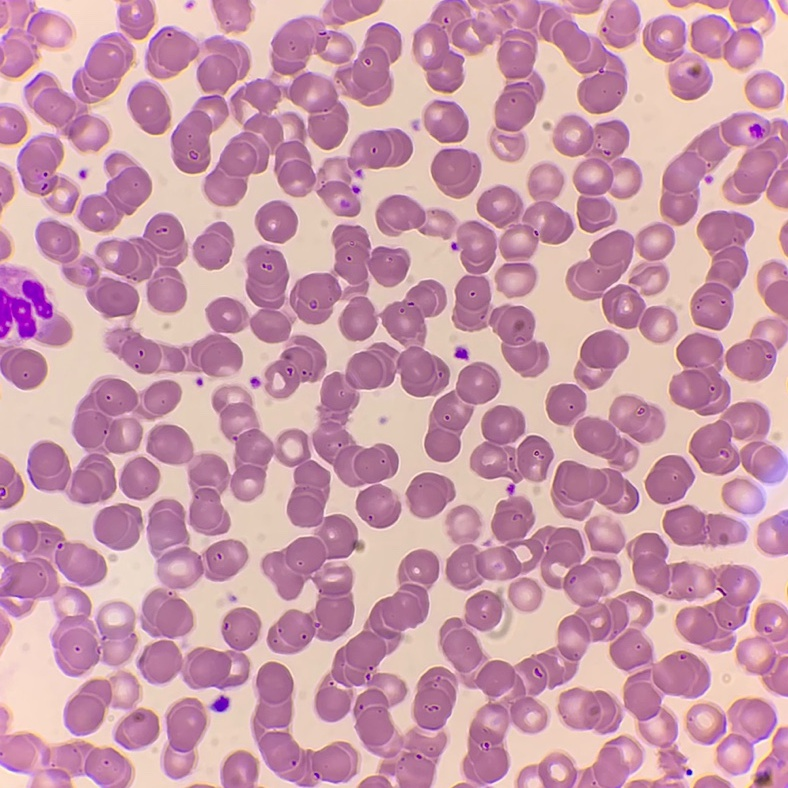RBC: (446, 497, 628, 694), (205, 17, 352, 205), (332, 550, 445, 787), (262, 430, 361, 653), (313, 343, 449, 486), (487, 0, 626, 131), (670, 334, 782, 479), (628, 533, 758, 650), (660, 112, 787, 224), (69, 378, 180, 503), (252, 662, 357, 786), (25, 35, 133, 149), (567, 230, 676, 342), (610, 629, 709, 747), (290, 225, 409, 323), (463, 661, 546, 784), (555, 115, 641, 231), (0, 522, 105, 615), (137, 608, 259, 688), (96, 213, 187, 312), (413, 0, 495, 92), (425, 362, 499, 461), (691, 211, 752, 329), (726, 262, 787, 380), (499, 164, 572, 260), (0, 734, 131, 787), (213, 387, 273, 500), (108, 328, 242, 375), (470, 406, 552, 480), (53, 602, 135, 675), (79, 153, 151, 231), (691, 0, 773, 68), (337, 23, 401, 105), (148, 499, 203, 588), (737, 603, 787, 695), (64, 673, 138, 734), (62, 258, 138, 317), (552, 461, 638, 513), (171, 95, 227, 172), (246, 246, 290, 342), (490, 306, 547, 376), (382, 280, 445, 343), (0, 0, 49, 76), (266, 335, 325, 397), (164, 698, 206, 778), (663, 505, 745, 545), (189, 454, 229, 535), (574, 418, 637, 468), (579, 737, 641, 787), (23, 282, 71, 345), (575, 331, 627, 388), (197, 36, 249, 92), (18, 136, 66, 194), (145, 27, 199, 77), (559, 689, 621, 732), (414, 667, 455, 729), (348, 129, 412, 168), (610, 396, 664, 442), (141, 589, 192, 637), (431, 149, 480, 197), (440, 618, 483, 672), (319, 158, 359, 216), (646, 455, 693, 503), (128, 81, 170, 133), (94, 504, 142, 549), (407, 473, 454, 517), (457, 221, 496, 273), (28, 442, 70, 490), (453, 276, 490, 330), (376, 195, 425, 235), (643, 15, 685, 61), (0, 346, 46, 388), (669, 54, 711, 99), (193, 222, 233, 269), (424, 100, 468, 142), (356, 485, 400, 527), (477, 186, 522, 226), (36, 220, 78, 262), (114, 709, 158, 749), (730, 699, 775, 738), (147, 425, 192, 463), (602, 0, 639, 46), (255, 201, 296, 242), (0, 290, 35, 338), (120, 457, 159, 499), (206, 540, 246, 580), (339, 297, 376, 340), (546, 384, 585, 424), (465, 591, 503, 630), (687, 704, 725, 743), (754, 743, 787, 787), (118, 0, 154, 38), (636, 223, 674, 259), (315, 682, 350, 721), (207, 298, 246, 332), (718, 734, 752, 773), (326, 0, 381, 24), (496, 263, 536, 296), (746, 71, 782, 107), (221, 751, 257, 787), (0, 458, 23, 509), (758, 514, 787, 554), (212, 0, 250, 30), (538, 757, 576, 787), (447, 506, 479, 541), (509, 579, 541, 610), (0, 106, 26, 143), (491, 134, 524, 160), (626, 592, 652, 622), (661, 750, 682, 778), (0, 266, 23, 289), (0, 167, 13, 204), (633, 265, 654, 284), (696, 776, 730, 787), (574, 0, 600, 13), (360, 776, 390, 787), (75, 592, 90, 612), (213, 696, 229, 710), (564, 508, 584, 519), (0, 235, 9, 258), (703, 0, 728, 8), (0, 619, 9, 640), (0, 709, 7, 733), (0, 1, 7, 24), (781, 226, 787, 248), (722, 486, 731, 500), (630, 780, 646, 787), (605, 544, 618, 552), (671, 0, 687, 6), (778, 728, 787, 738), (456, 348, 465, 357), (61, 205, 70, 213), (593, 542, 602, 550), (438, 211, 446, 219), (781, 642, 787, 652), (31, 782, 39, 787), (650, 783, 659, 787), (470, 0, 478, 4), (783, 3, 787, 11), (0, 328, 4, 336)
